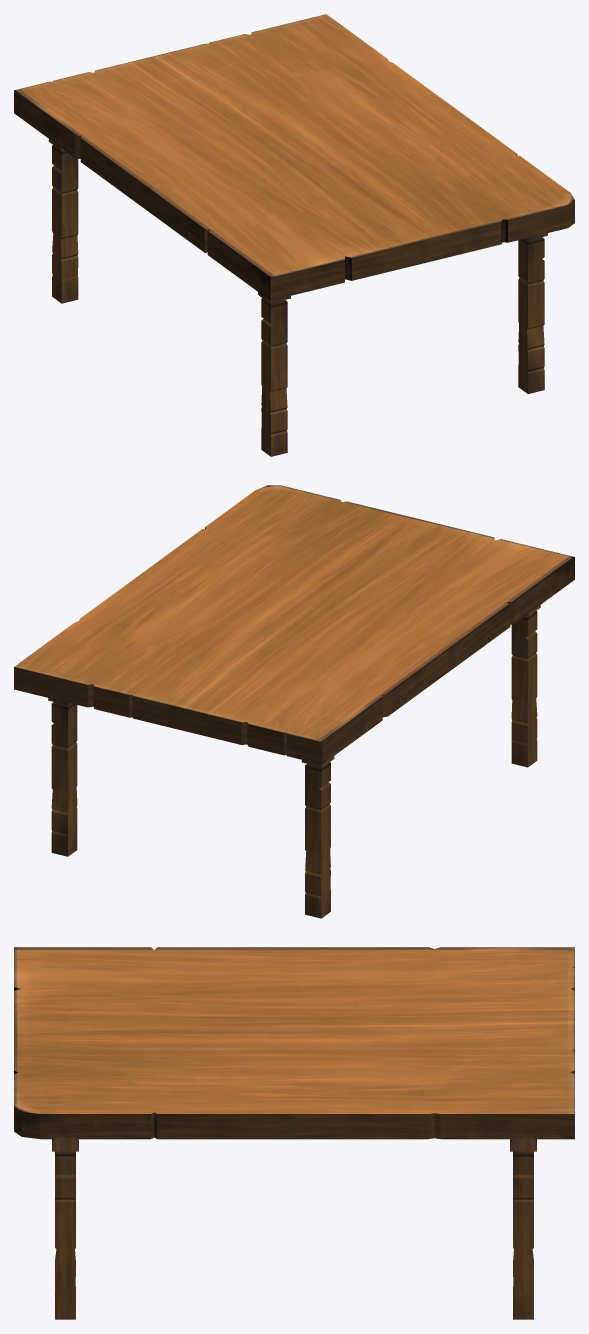
Rendered from MESA_MADERA.fbx.
3 views of the same model, one above another, from view 1: azimuth 30°, elevation 25°; view 2: azimuth 150°, elevation 25°; view 3: azimuth 270°, elevation 25° (orthographic). The views are drawn at different scales.
Visible parts, largest first — view 1: Cube; view 2: Cube; view 3: Cube.
Part boxes in pixels (left/top/right/bottom): Cube: left=14, top=14, right=574, bottom=456; Cube: left=14, top=485, right=574, bottom=918; Cube: left=14, top=947, right=574, bottom=1319.
Size of the model in its own units: 518 by 313 by 736.
Materials: 1 (1 with a texture image).
